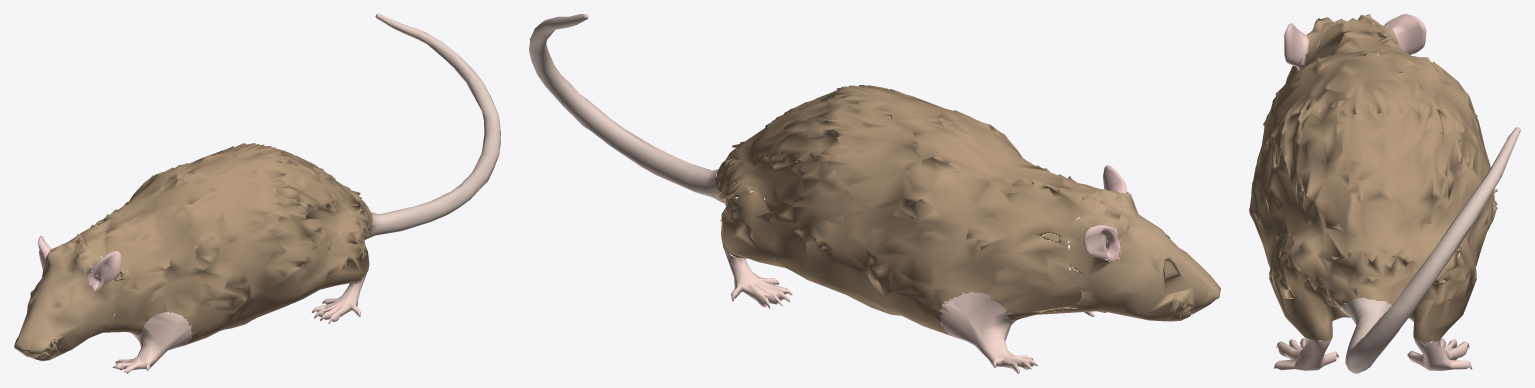
File: rat.glb
3 views of the same model, side by side, from view 1: azimuth 30°, elevation 25°; view 2: azimuth 150°, elevation 25°; view 3: azimuth 270°, elevation 25° (orthographic). The views are drawn at different scales.
Parts seen in each view (by area): view 1: part1, part4, part3, part7, part6, part8, part2; view 2: part1, part4, part3, part0, part6, part9, part5; view 3: part1, part6, part3, part8, part9, part5, part4, part2.
Boxes of the visible parts, left/top/right/bottom form: part1: left=67, top=143, right=372, bottom=346; part4: left=14, top=241, right=115, bottom=361; part3: left=365, top=14, right=500, bottom=239; part7: left=112, top=311, right=192, bottom=373; part6: left=320, top=230, right=369, bottom=289; part8: left=311, top=273, right=366, bottom=323; part2: left=87, top=251, right=121, bottom=290; part1: left=715, top=85, right=1103, bottom=335; part4: left=1066, top=189, right=1220, bottom=321; part3: left=529, top=14, right=725, bottom=203; part0: left=937, top=291, right=1037, bottom=373; part6: left=720, top=191, right=784, bottom=267; part9: left=723, top=246, right=792, bottom=308; part5: left=1083, top=225, right=1120, bottom=261; part1: left=1249, top=18, right=1497, bottom=307; part6: left=1269, top=233, right=1476, bottom=343; part3: left=1338, top=127, right=1520, bottom=373; part8: left=1274, top=336, right=1339, bottom=370; part9: left=1407, top=336, right=1472, bottom=370; part5: left=1384, top=14, right=1426, bottom=54; part4: left=1286, top=14, right=1398, bottom=82; part2: left=1284, top=23, right=1308, bottom=70.
Bounding box in the file's own units: 0.9992 × 0.4048 × 0.3151.
